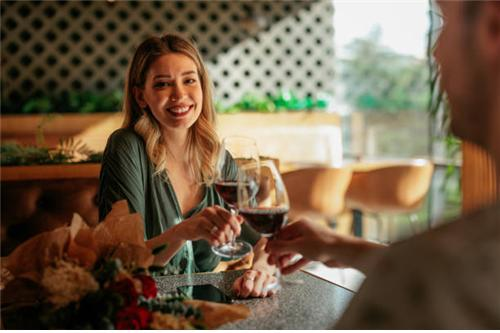alcohol: (212, 135, 262, 261)
